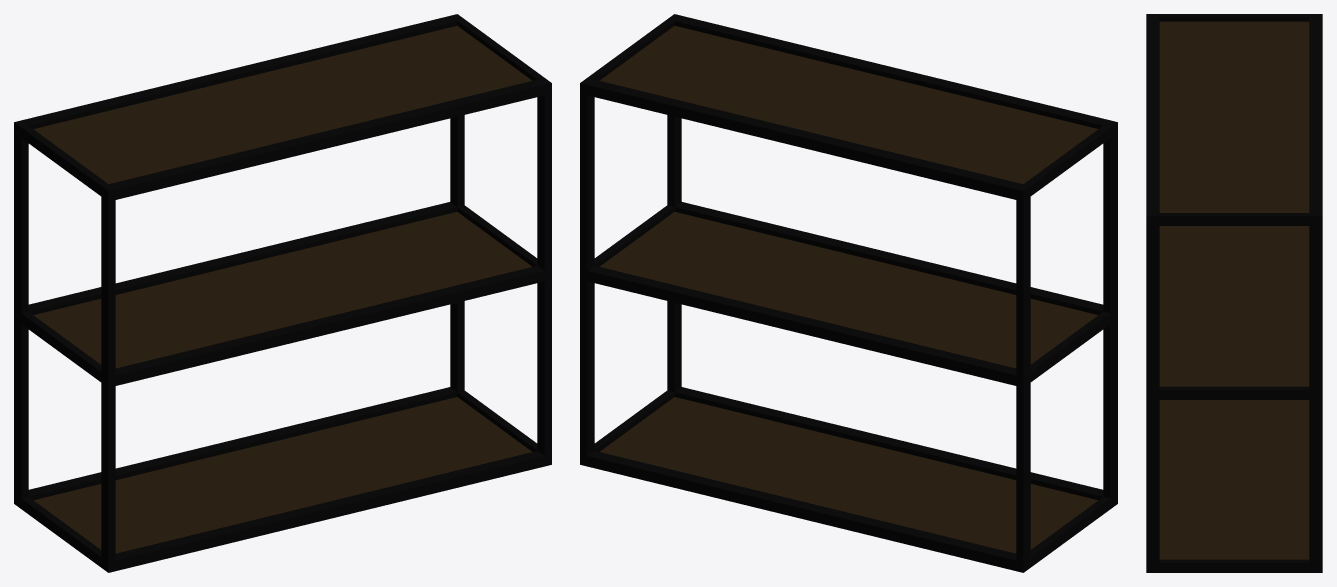
Rendered from Shelve.glb.
The picture shows the model from 3 angles, left to right: view 1: azimuth 30°, elevation 25°; view 2: azimuth 150°, elevation 25°; view 3: azimuth 270°, elevation 25°; orthographic projection. The views are drawn at different scales.
Parts seen in each view (by area): view 1: Shelve; view 2: Shelve; view 3: Shelve.
Part boxes in pixels (<box>): Shelve: <box>14,14,551,572</box>; Shelve: <box>580,14,1117,572</box>; Shelve: <box>1146,14,1322,572</box>.
Size of the model in its own units: 1.98 by 1.63 by 0.731.
